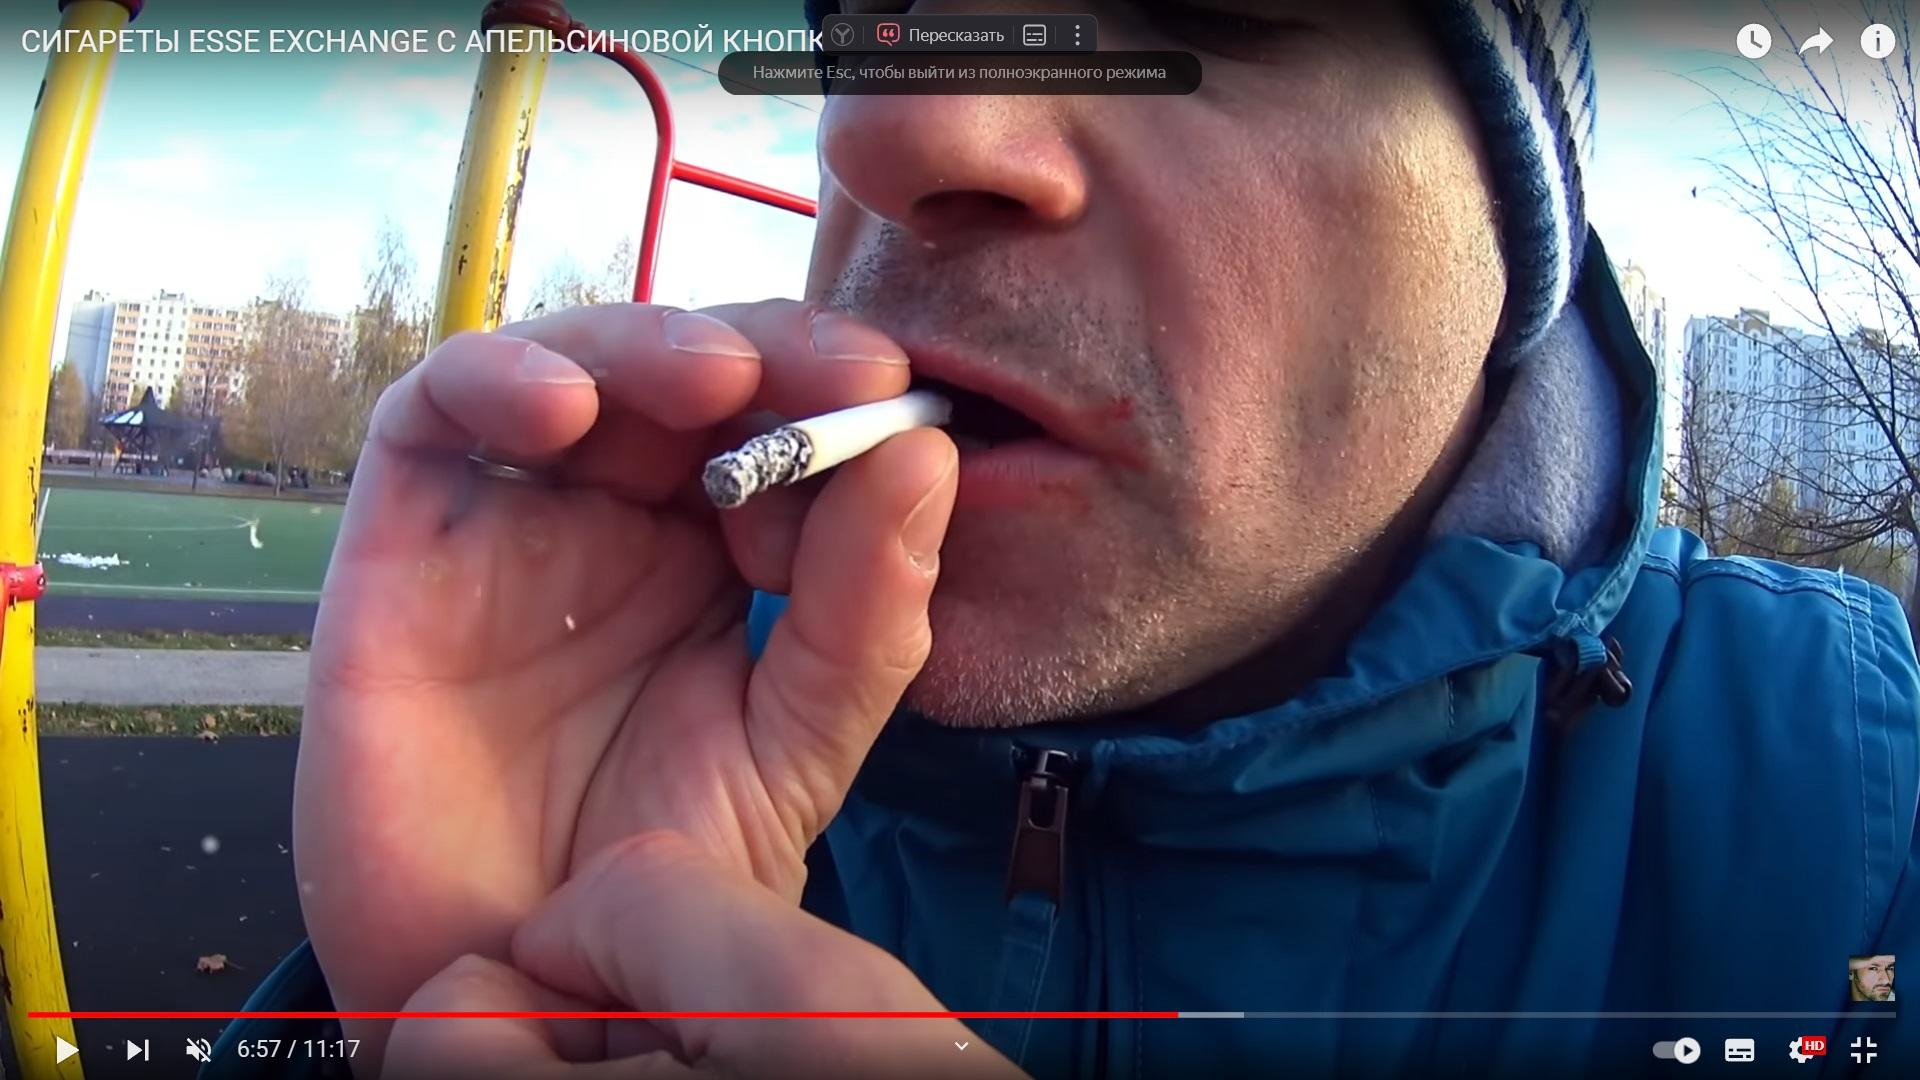cigarette: (703, 385, 959, 509)
